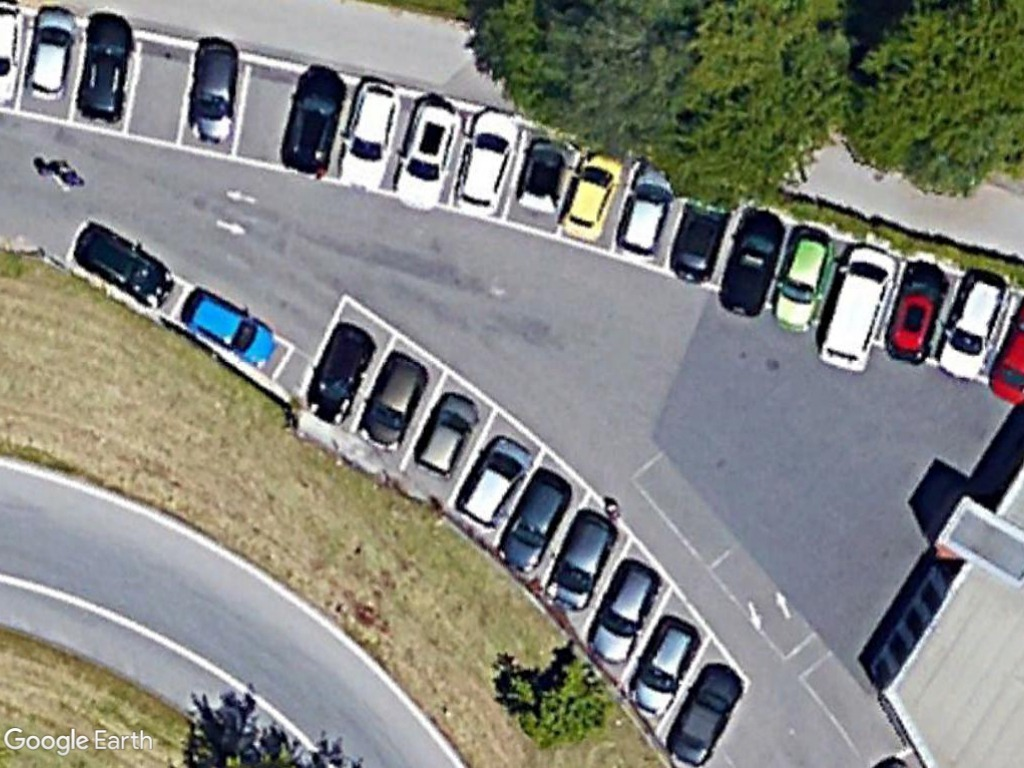car: (394, 92, 466, 214), (664, 660, 745, 768), (933, 272, 1012, 382), (628, 612, 707, 720), (584, 559, 662, 668), (491, 473, 574, 574), (455, 432, 534, 536), (451, 108, 521, 223), (303, 321, 381, 423), (338, 79, 407, 194), (541, 508, 617, 612), (718, 212, 790, 320), (183, 292, 279, 371), (361, 348, 433, 453), (772, 226, 840, 334), (411, 388, 480, 484), (617, 160, 680, 259), (22, 4, 81, 107), (562, 144, 623, 239), (191, 37, 239, 151)
van: (814, 243, 901, 373)
